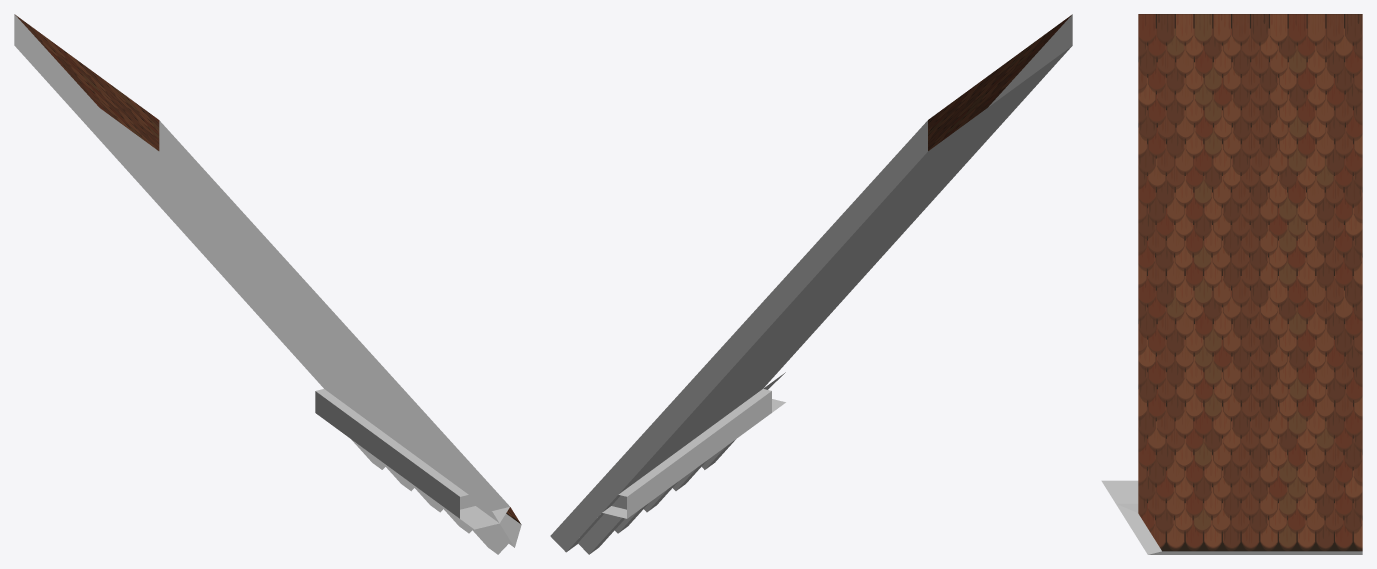
The model's file is Roof_Line_Angle_02_B.FBX.
3 renders of one model, left to right at view 1: azimuth 30°, elevation 25°; view 2: azimuth 150°, elevation 25°; view 3: azimuth 270°, elevation 25°, orthographic. The views are drawn at different scales.
Parts seen in each view (by area): view 1: Roof_Line_Angle_02_B; view 2: Roof_Line_Angle_02_B; view 3: Roof_Line_Angle_02_B.
Part boxes in pixels (left/top/right/bottom): Roof_Line_Angle_02_B: left=14, top=14, right=521, bottom=554; Roof_Line_Angle_02_B: left=550, top=14, right=1072, bottom=554; Roof_Line_Angle_02_B: left=1101, top=14, right=1362, bottom=554.
Bounding box in the file's own units: 7.53 × 10.04 × 5.82.
